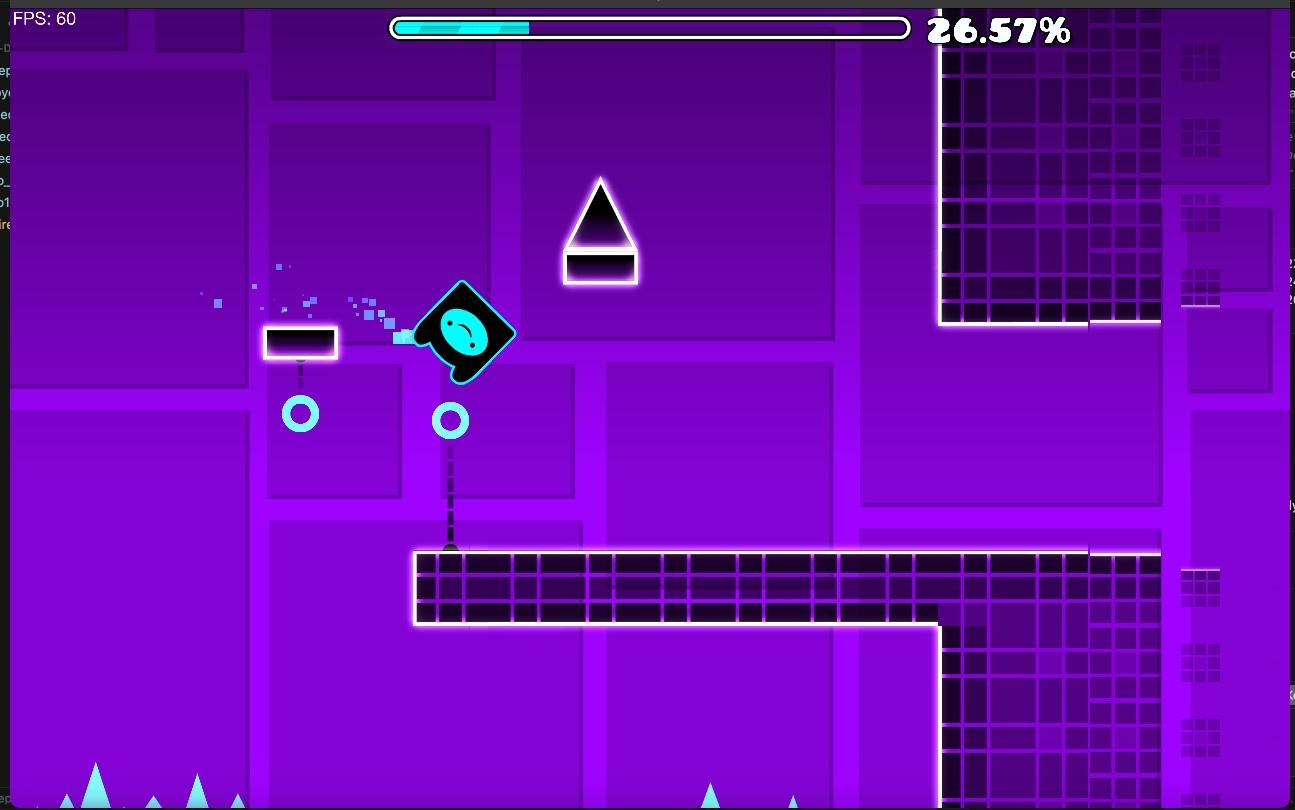block: (934, 554, 1162, 809), (417, 553, 936, 625)
platform: (262, 325, 338, 360)
player: (413, 280, 515, 384)
spike: (568, 178, 633, 247), (60, 764, 113, 809), (564, 253, 636, 283), (182, 774, 211, 807), (702, 784, 719, 807), (229, 794, 245, 806), (145, 796, 160, 807), (789, 795, 798, 807)
